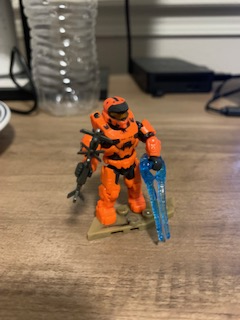spartan: (75, 95, 165, 225)
